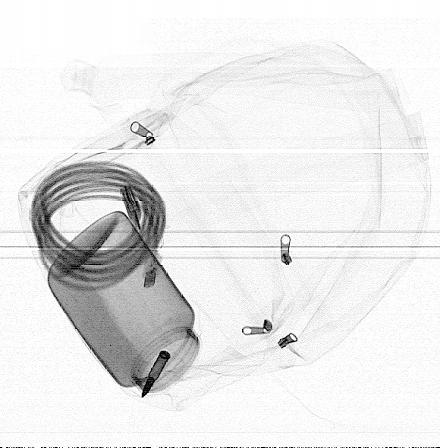Bullet: (141, 351, 171, 399)
